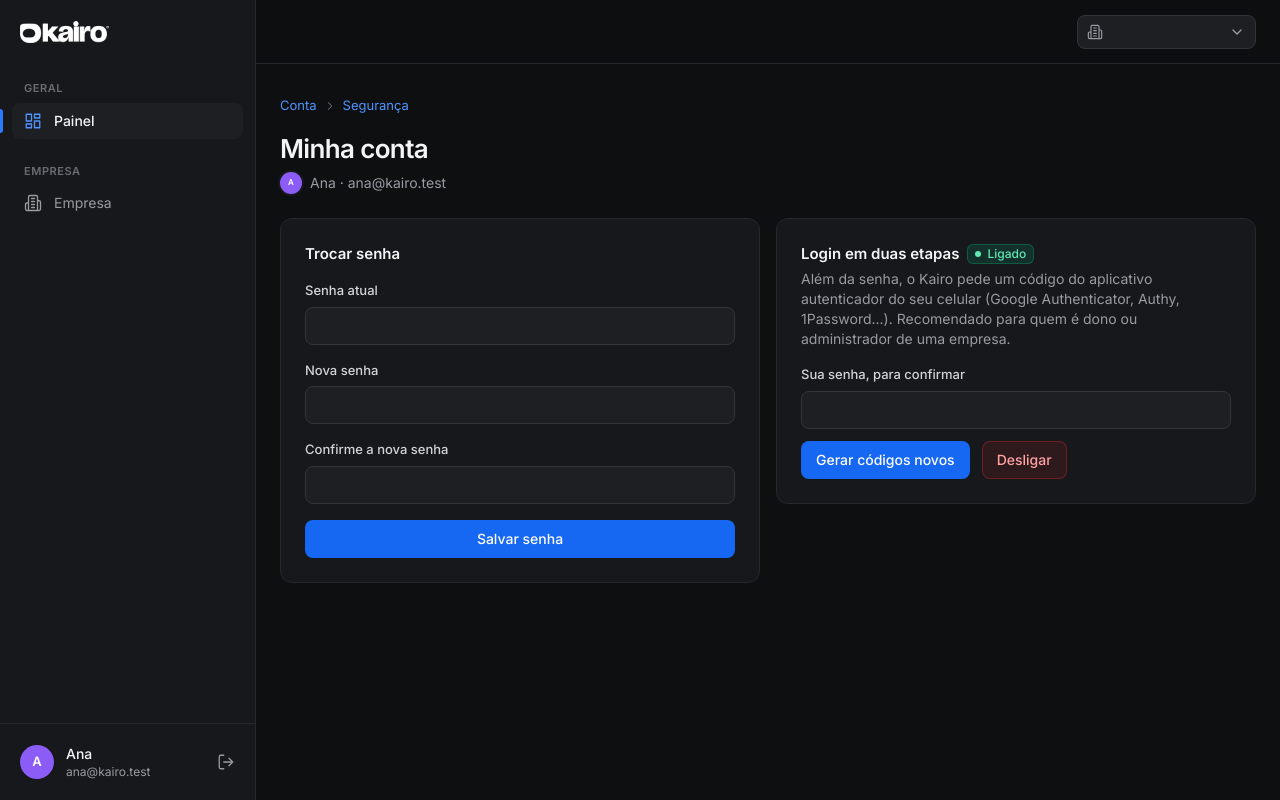
Test: AccountView › desliga com a senha
Type "SenhaForte123" into the password field with id "confirm_password". click: (1016, 410)
box: [801,391,1231,429]
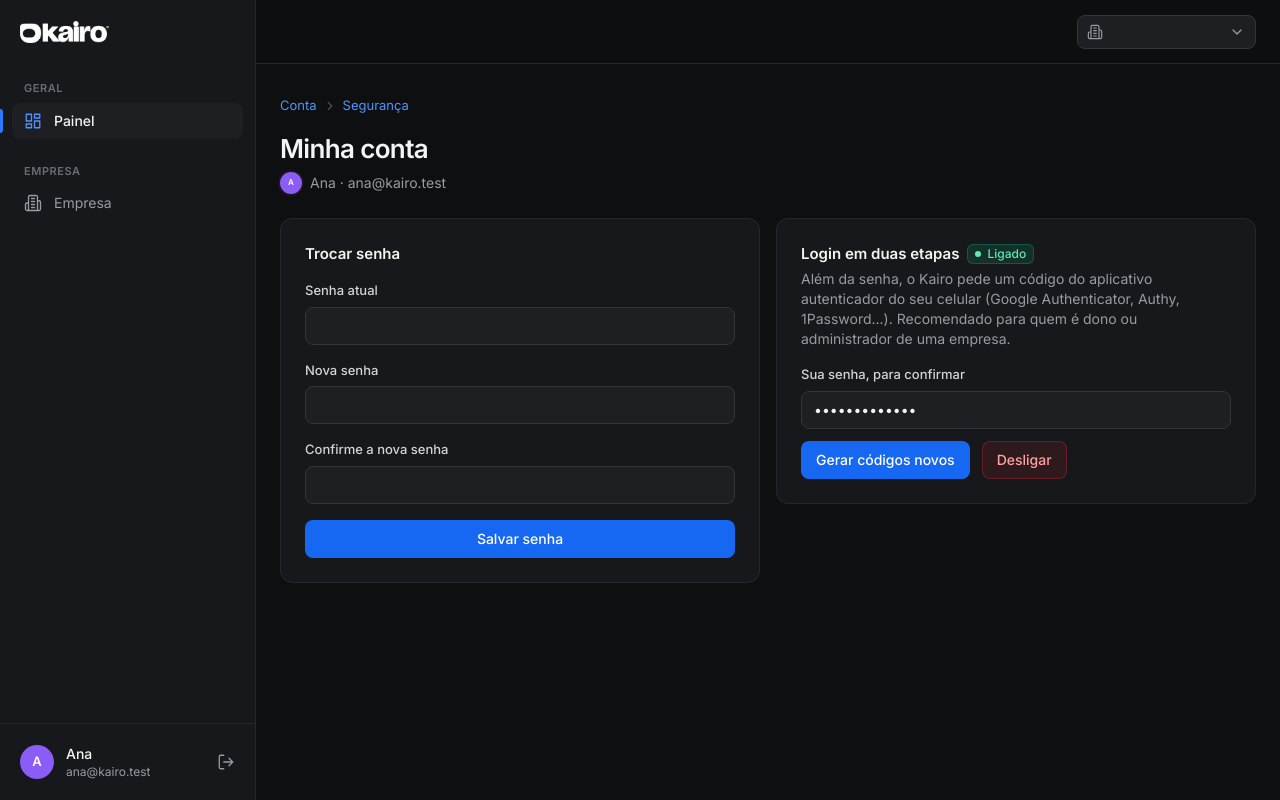
Click the button with test id "disable-two-factor". click: (1024, 460)
box: [982,441,1067,479]
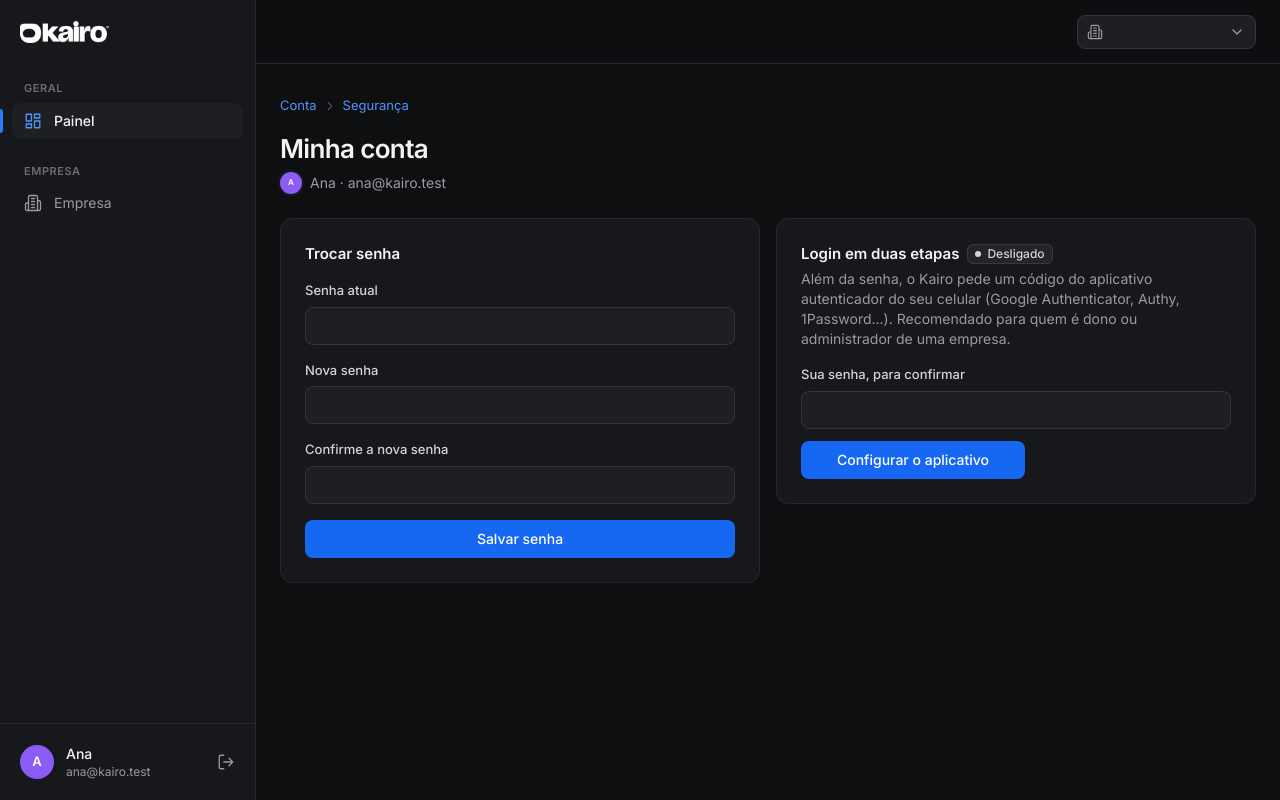
Check: the element with test id "two-factor-status" reads "Desligado", box [987,246,1044,261]
